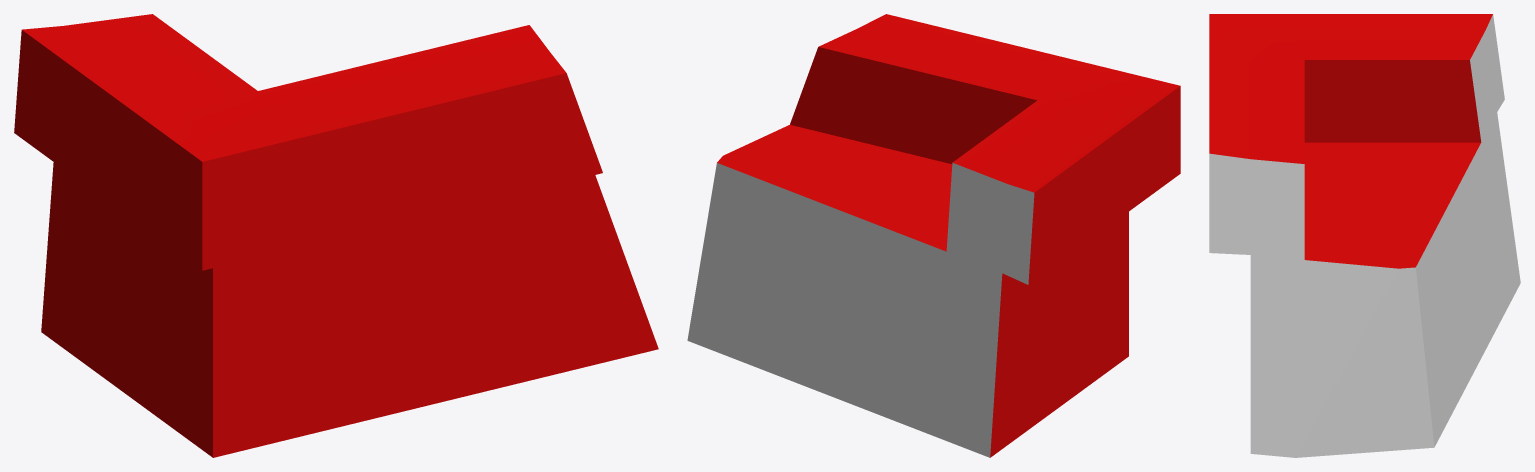
The model's file is mdl_ciudadela_pared_fracturepart1.fbx.
3 views of the same model, side by side, from view 1: azimuth 30°, elevation 25°; view 2: azimuth 150°, elevation 25°; view 3: azimuth 270°, elevation 25° (orthographic). The views are drawn at different scales.
Visible parts, largest first — view 1: mdl_ciudadela_pared_fracturepart1; view 2: mdl_ciudadela_pared_fracturepart1; view 3: mdl_ciudadela_pared_fracturepart1.
Part boxes in pixels (x1,y1,x2,y2): mdl_ciudadela_pared_fracturepart1: [14, 14, 658, 457]; mdl_ciudadela_pared_fracturepart1: [687, 14, 1180, 457]; mdl_ciudadela_pared_fracturepart1: [1209, 14, 1520, 457].
Bounding box in the file's own units: 6.7 × 4.21 × 4.66.
